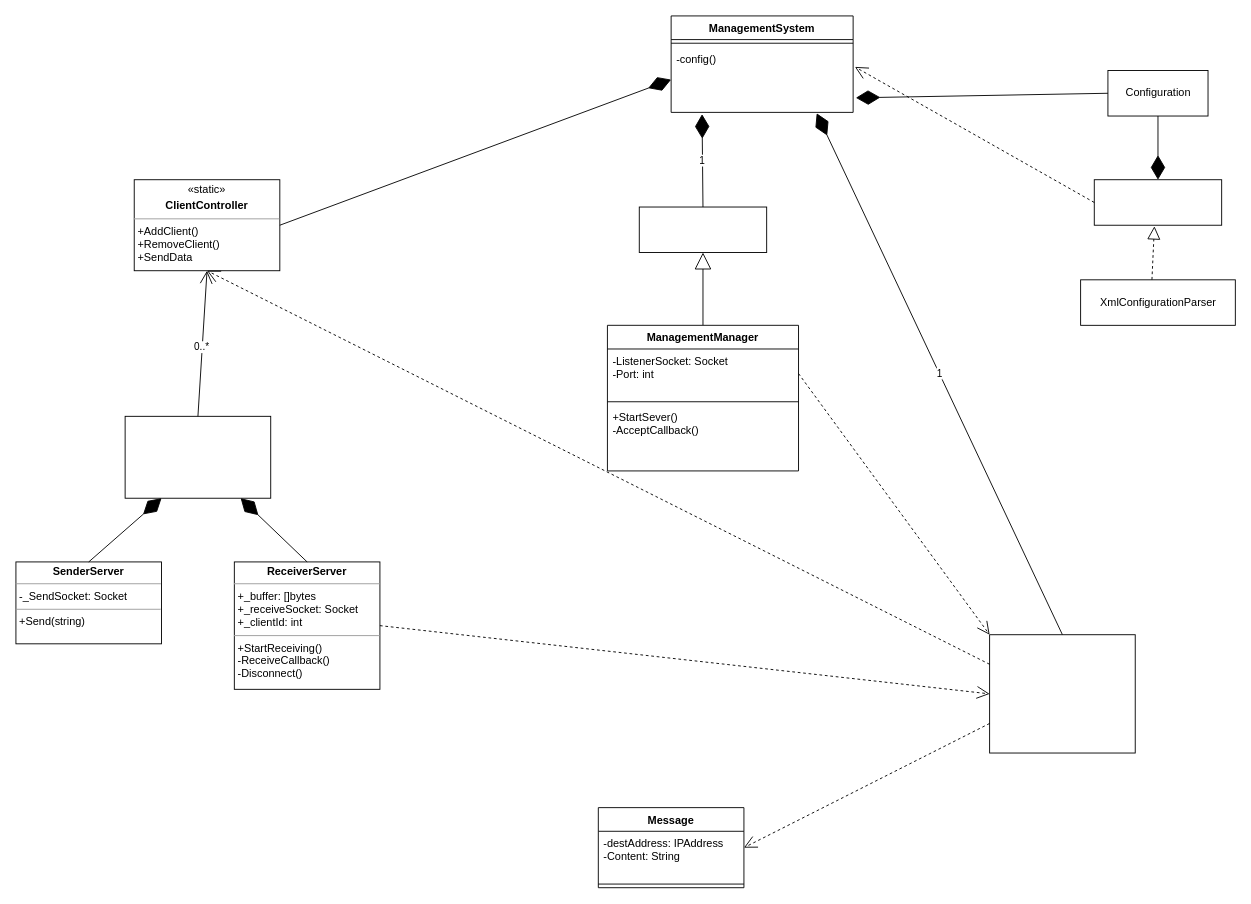
The diagram is 1251 pixels wide and 904 high, and some of its shapes have lost their labels. Here are the shapes that lost their labels. From the top down, the box of each, then its label:
(1093, 179, 1222, 225): «interface» IConfigurationParser
(638, 206, 767, 253): «interface» IManagementManager
(124, 415, 271, 498): Client + _socket: Socket +Id: Int + SendData()
(989, 634, 1135, 753): «static» UserInterface +Start() -SendMessage() +WriteLine()
